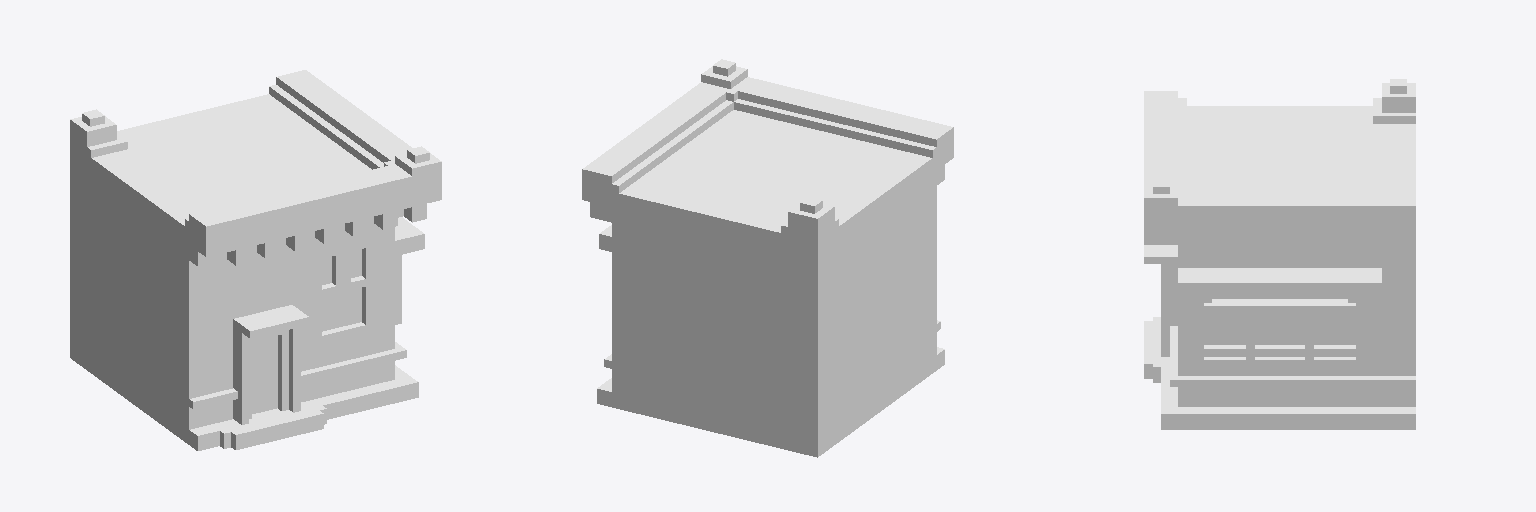
The model's file is tile_1_left_corner.obj.
The picture shows the model from 3 angles: view 1: azimuth 30°, elevation 25°; view 2: azimuth 150°, elevation 25°; view 3: azimuth 270°, elevation 25°; orthographic projection.
Parts seen in each view (by area): view 1: object 1; view 2: object 1; view 3: object 1.
Part boxes in pixels (left/top/right/bottom): object 1: left=70, top=70, right=441, bottom=450; object 1: left=582, top=59, right=953, bottom=457; object 1: left=1144, top=79, right=1415, bottom=429.
Bounding box in the file's own units: 3.2 × 3.2 × 3.2.